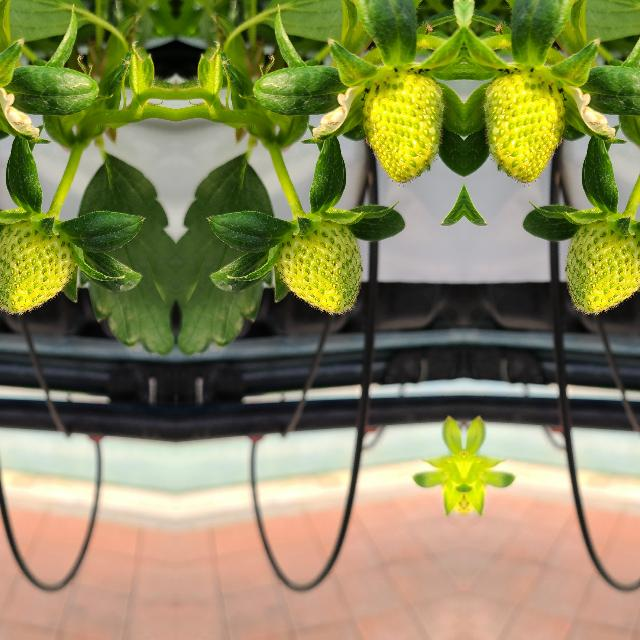Health_25: (358, 68, 446, 188), (480, 68, 568, 188), (276, 220, 360, 312), (565, 220, 640, 311), (0, 220, 74, 311)
